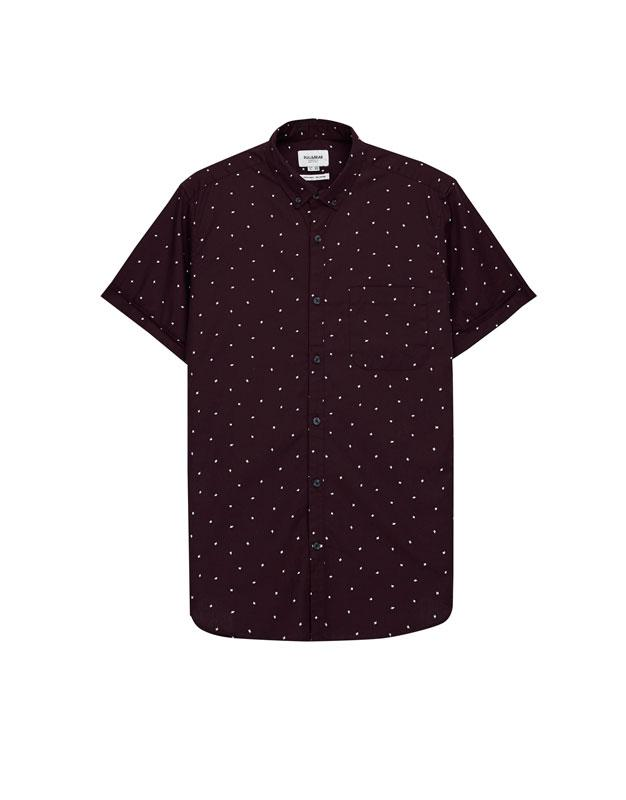teeshirt: (96, 111, 539, 653)
